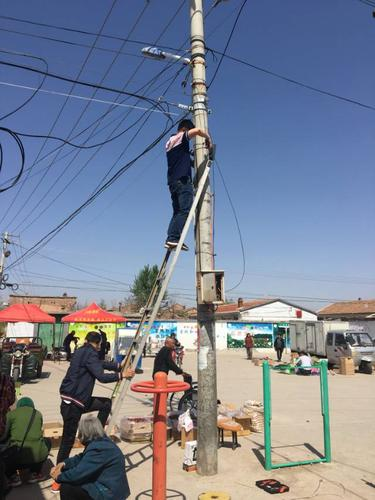安全帽、安全绳，工作服均未佩戴的工作人员: (163, 117, 213, 251)
安全帽、工作服均未穿戴的工作人员: (55, 330, 135, 463), (47, 411, 132, 499), (0, 395, 52, 488), (151, 332, 191, 382), (62, 330, 80, 361)
